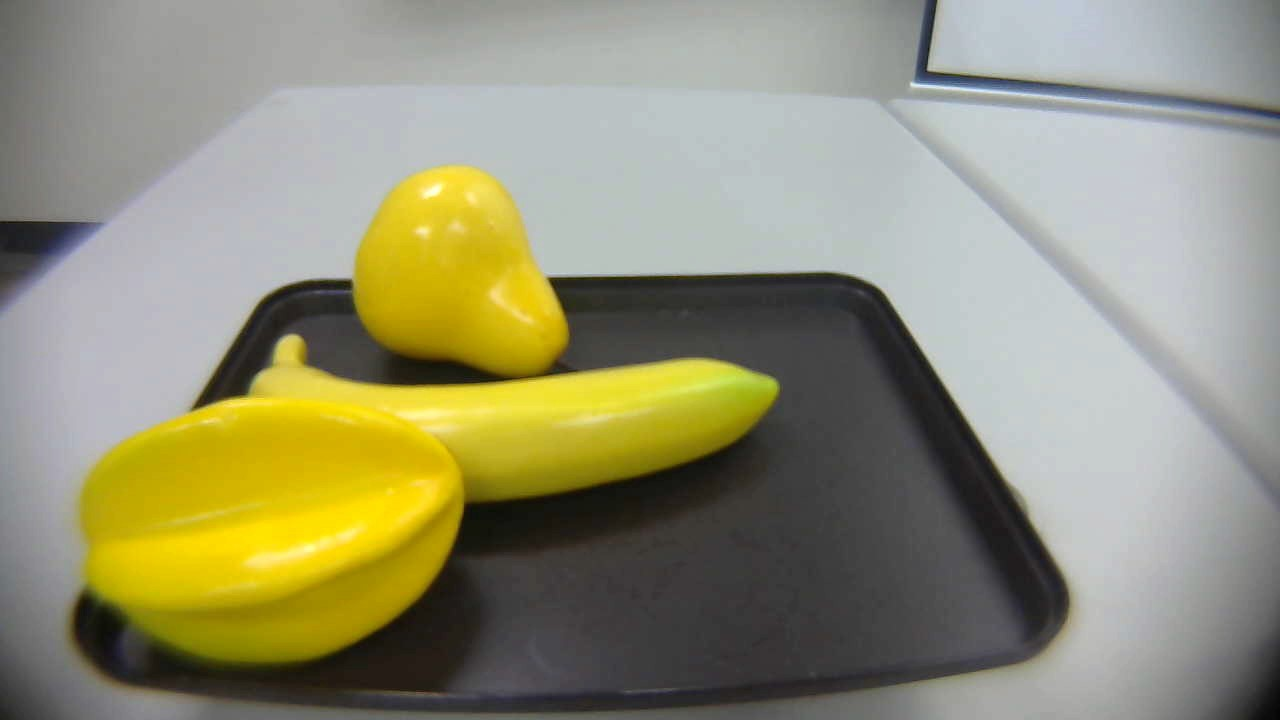banana: (240, 329, 786, 494)
star fruit: (73, 397, 474, 655)
yellow pear: (343, 168, 578, 386)
